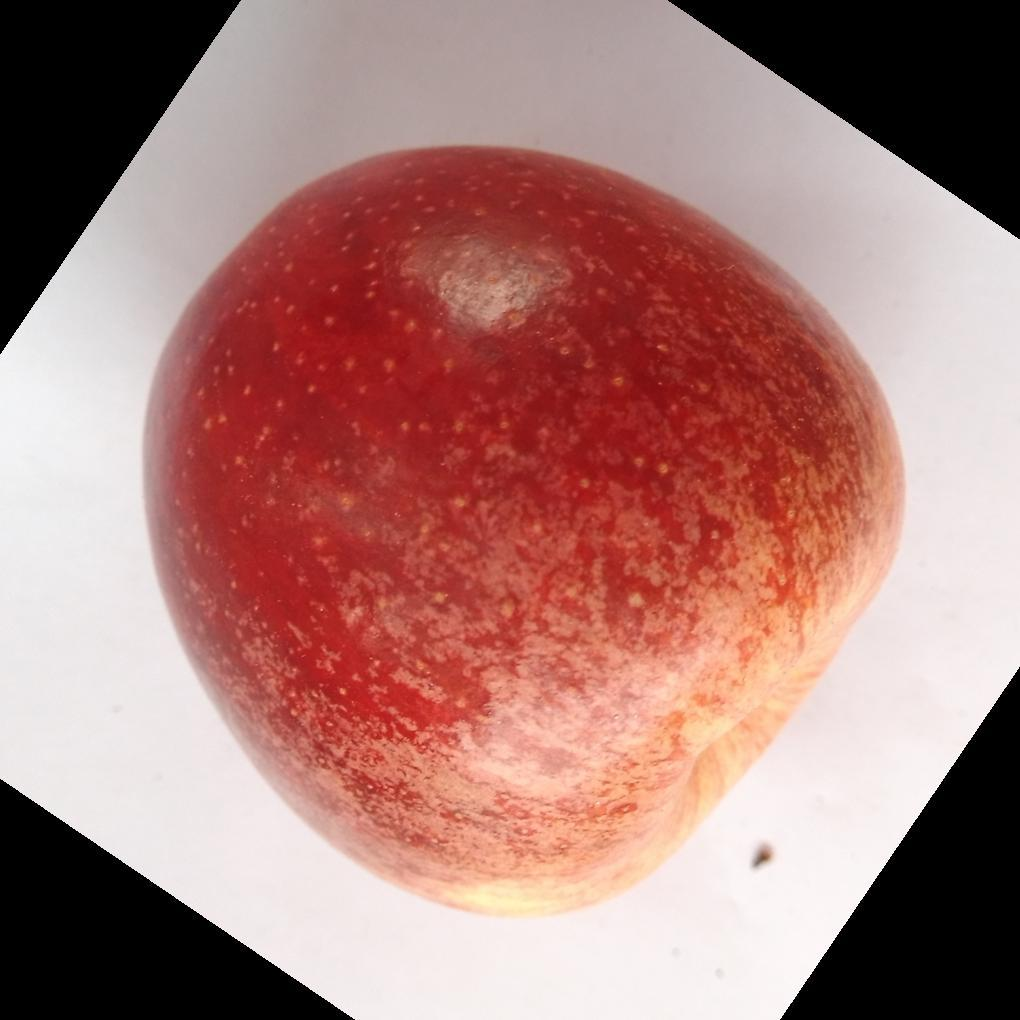FreshGuava: (138, 145, 907, 923)
